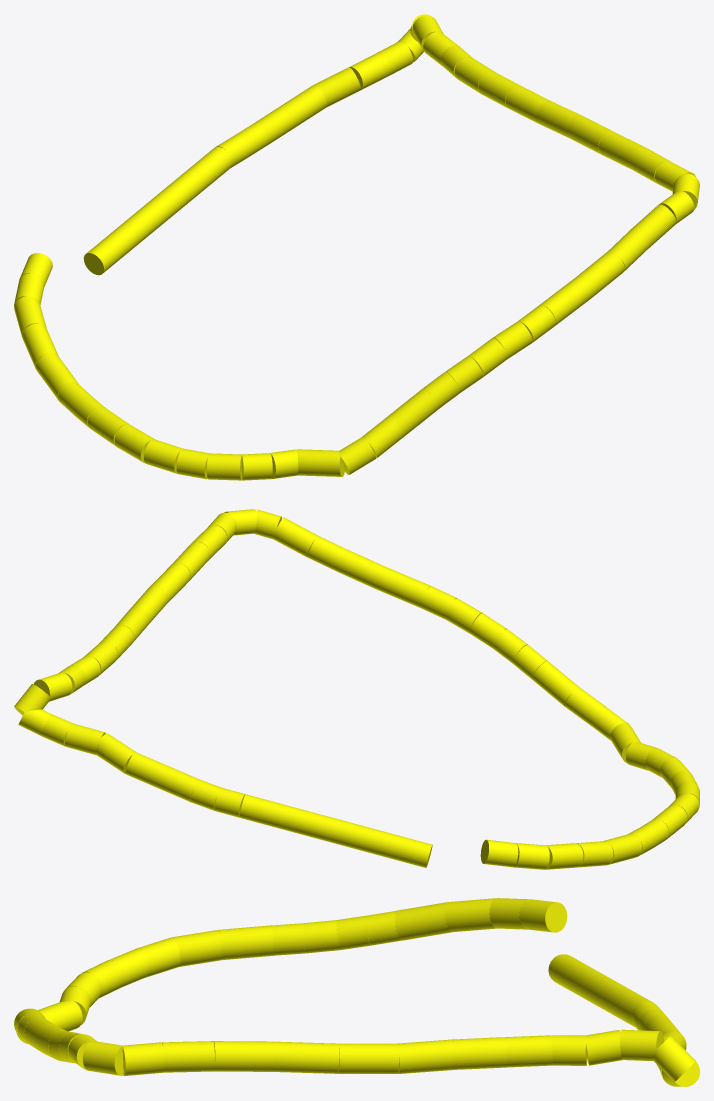
The picture shows the model from 3 angles, top to bottom: view 1: azimuth 30°, elevation 25°; view 2: azimuth 150°, elevation 25°; view 3: azimuth 270°, elevation 25°; orthographic projection. The views are drawn at different scales.
Visible parts, largest first — view 1: Cylinder(Clone) (×33); view 2: Cylinder(Clone) (×36); view 3: Cylinder(Clone) (×38).
Boxes of the visible parts, x1,y1,x2,y2 form: Cylinder(Clone) (×33): [14, 52, 676, 480]; Cylinder(Clone) (×36): [14, 509, 687, 869]; Cylinder(Clone) (×38): [24, 898, 699, 1086].
Size of the model in its own units: 0.2412 by 0.078 by 0.2245.
